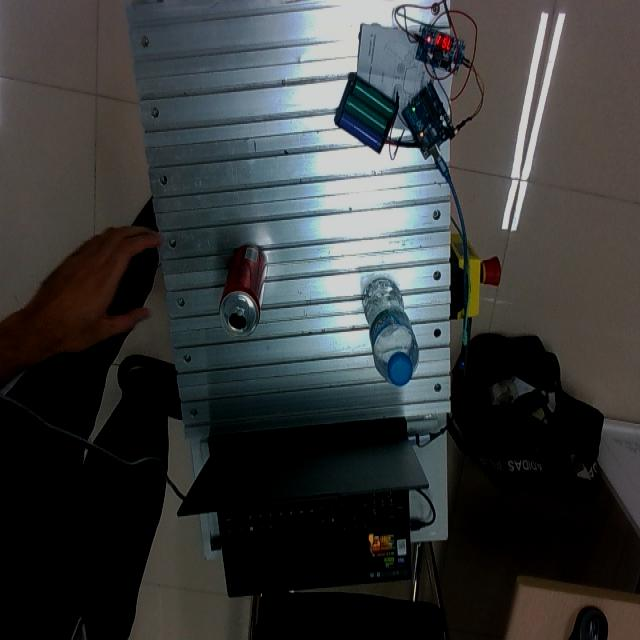coca: (220, 244, 268, 339)
lavie: (363, 279, 419, 388)
